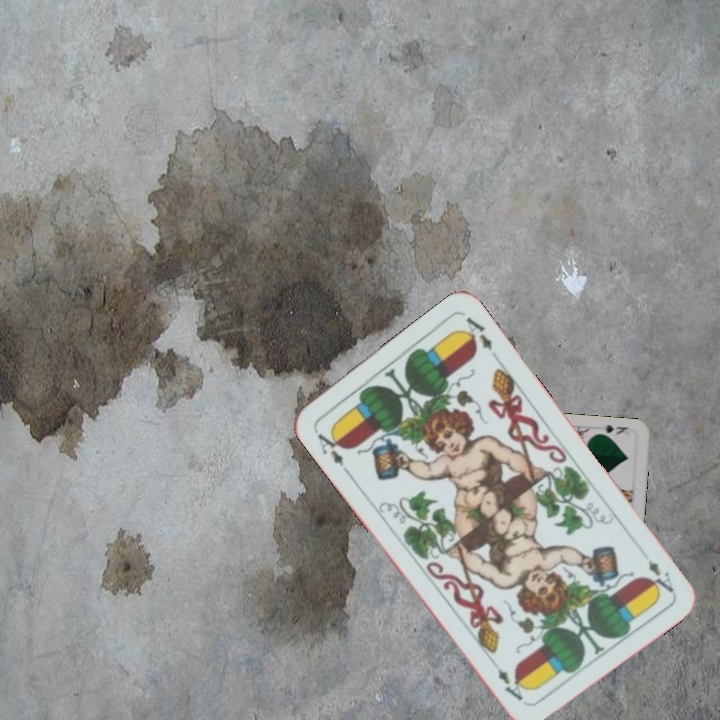EA: (310, 426, 352, 476), (643, 556, 677, 596)
GK: (597, 419, 630, 437)
